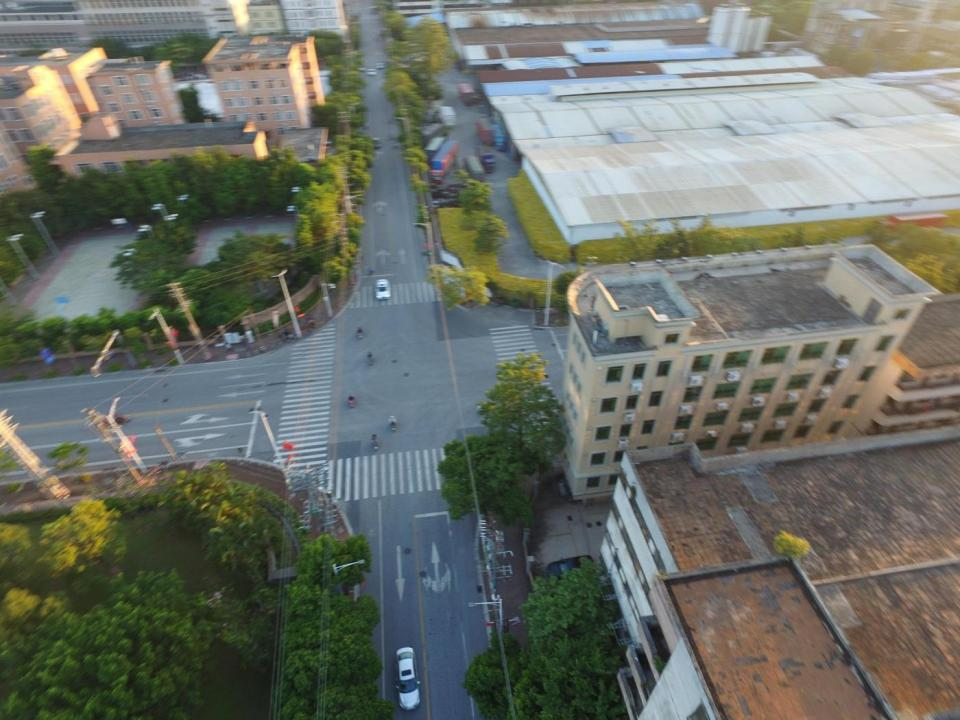car: (394, 646, 424, 712), (374, 278, 392, 301), (370, 137, 382, 150), (367, 67, 378, 78), (377, 62, 386, 70), (358, 64, 367, 72)
truck: (427, 142, 460, 184), (421, 136, 447, 167), (463, 153, 487, 186), (474, 142, 496, 174), (420, 123, 447, 147), (491, 122, 507, 152), (458, 82, 476, 108), (438, 104, 458, 127), (476, 118, 493, 145)
